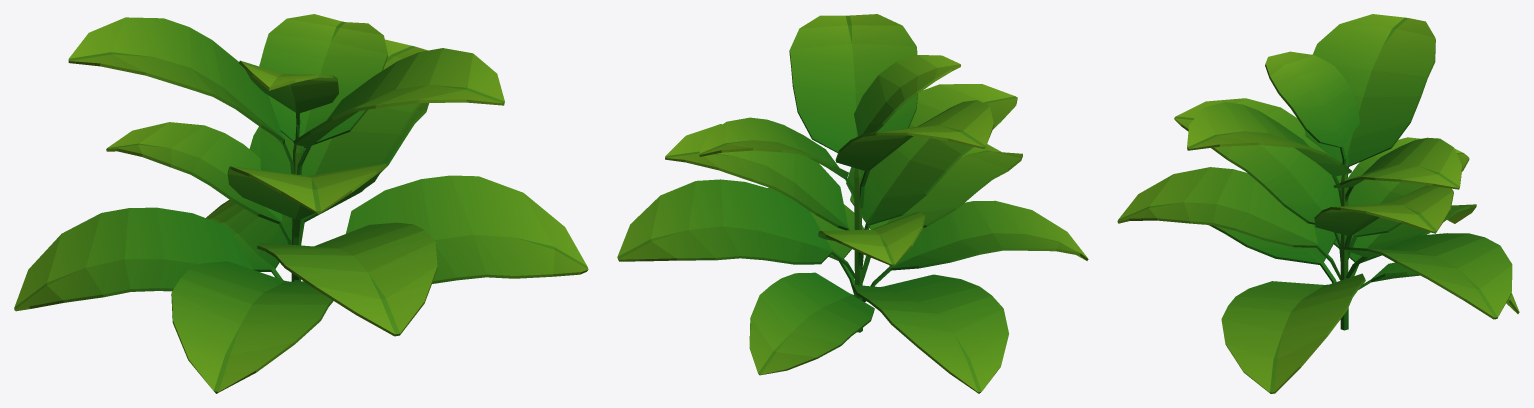
File: Plant_02.fbx
3 renders of one model, left to right at view 1: azimuth 30°, elevation 25°; view 2: azimuth 150°, elevation 25°; view 3: azimuth 270°, elevation 25°, orthographic. The views are drawn at different scales.
Parts seen in each view (by area): view 1: Plant_02; view 2: Plant_02; view 3: Plant_02.
Part boxes in pixels (x1,y1,x2,y2): Plant_02: (14, 14, 588, 393); Plant_02: (617, 14, 1088, 393); Plant_02: (1117, 14, 1519, 393).
Bounding box in the file's own units: 86.95 × 54.67 × 80.7.
